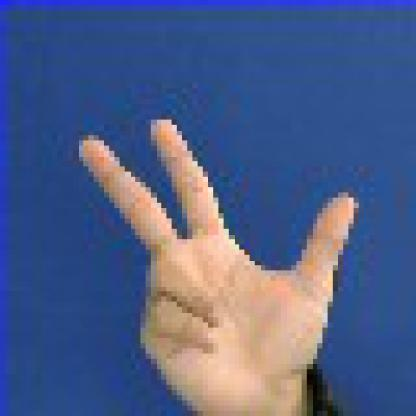eight: (52, 99, 385, 411)
